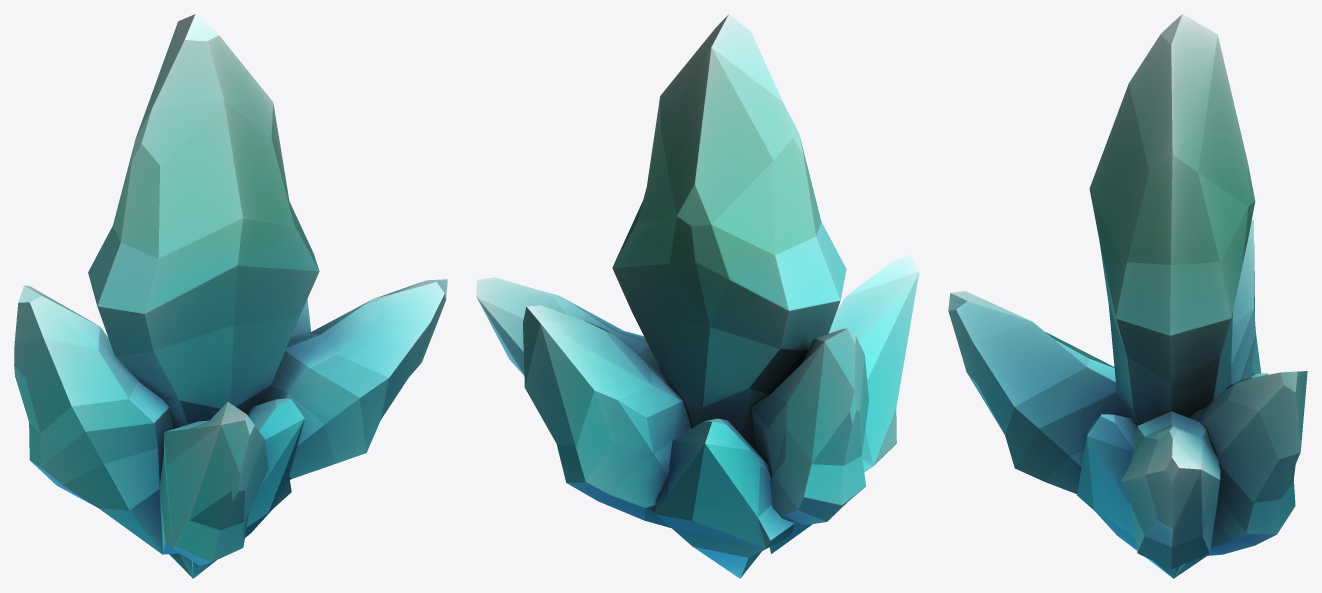
The model's file is Crystal_62.fbx.
3 views of the same model, side by side, from view 1: azimuth 30°, elevation 25°; view 2: azimuth 150°, elevation 25°; view 3: azimuth 270°, elevation 25° (orthographic).
Parts seen in each view (by area): view 1: Crystal_62; view 2: Crystal_62; view 3: Crystal_62.
Part boxes in pixels (x1,y1,x2,y2): Crystal_62: (14,14,447,578); Crystal_62: (476,14,919,578); Crystal_62: (948,14,1307,578).
Size of the model in its own units: 90.31 by 120 by 68.52.
